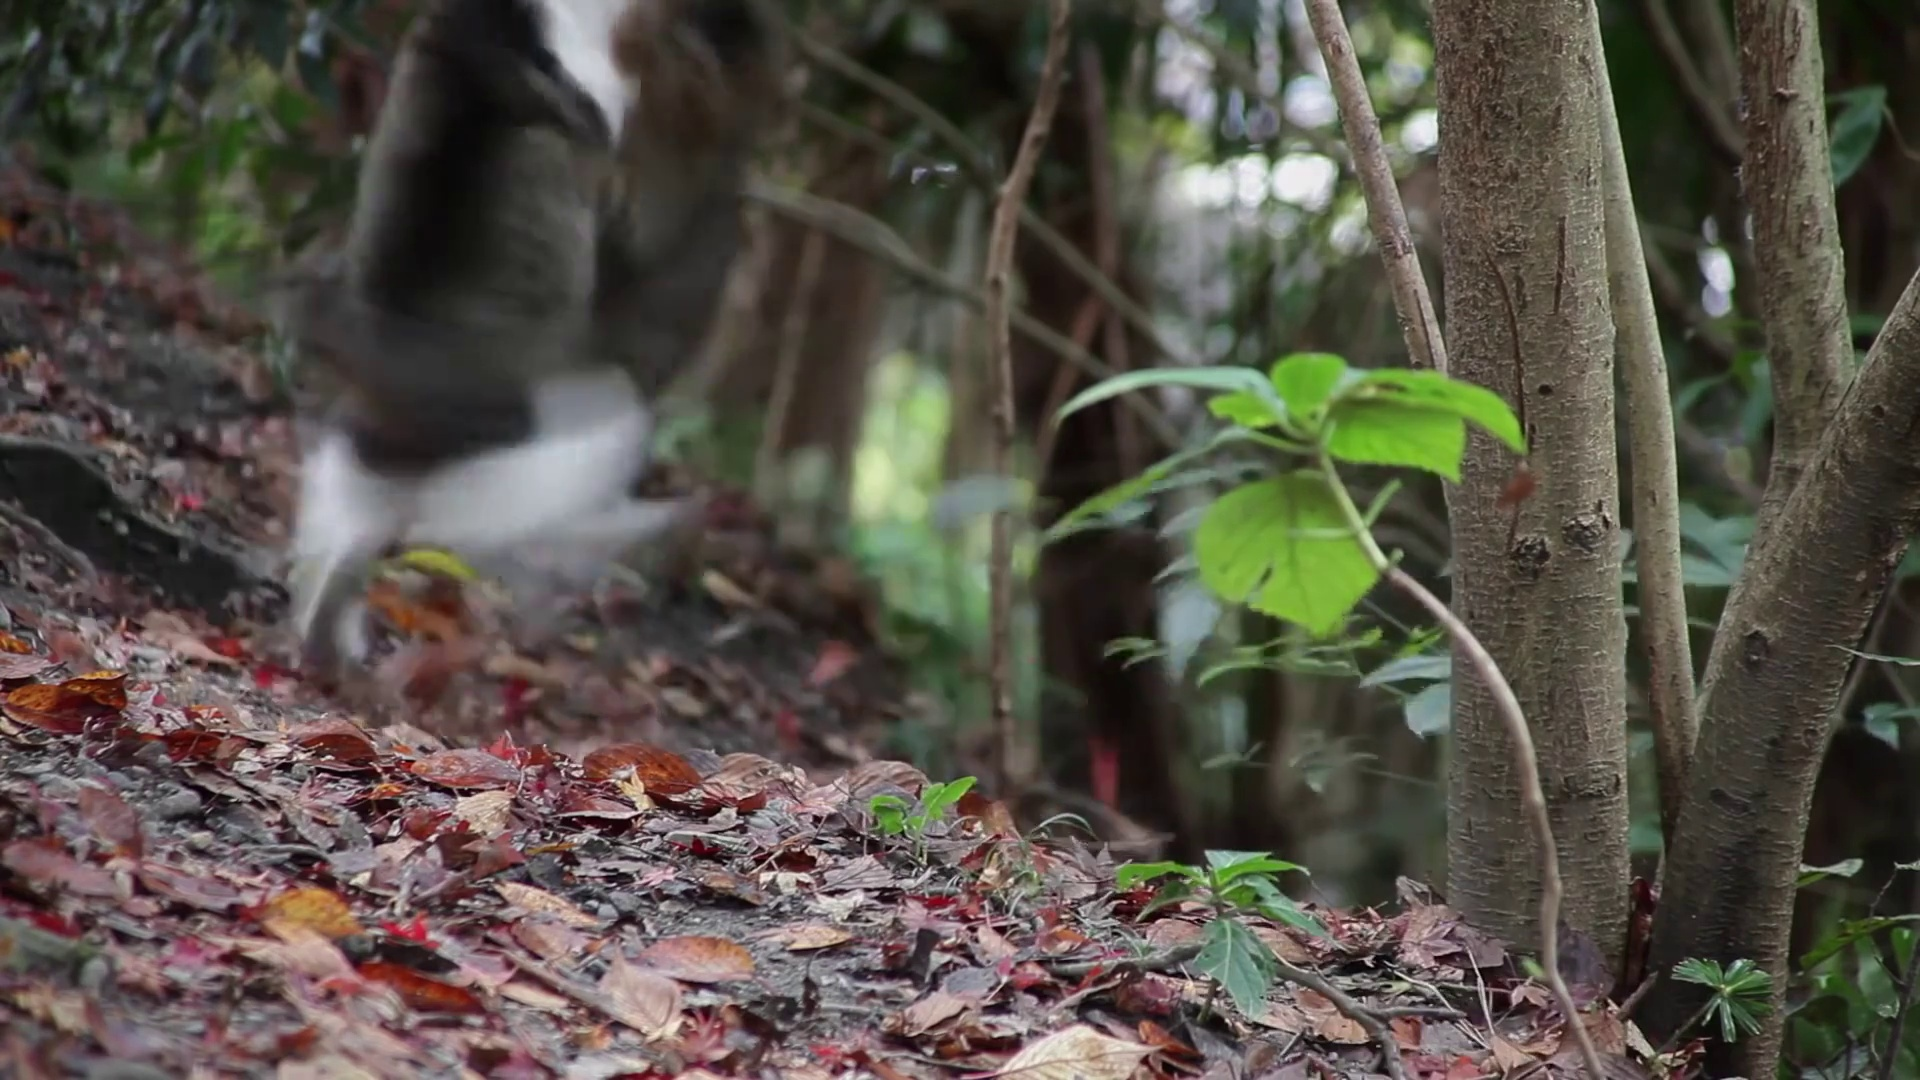black-white: (295, 12, 625, 679)
pure black: (525, 3, 771, 560)
